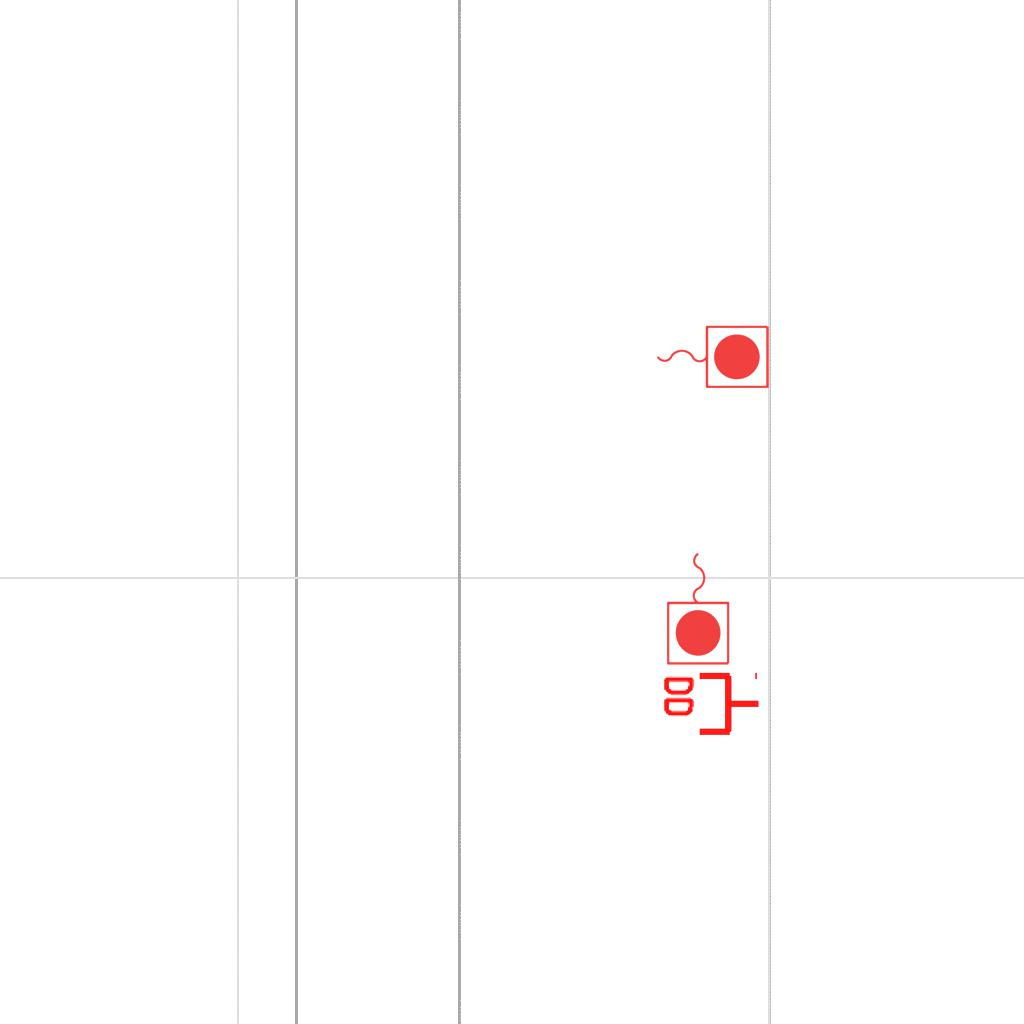Datenanschluss_zweifach: (659, 671, 762, 740)
Zugtaster: (651, 320, 773, 392), (663, 547, 735, 669)
